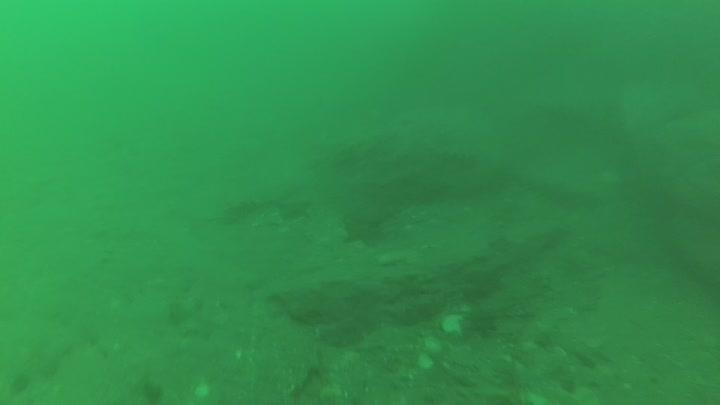starfish: (339, 208, 388, 248)
